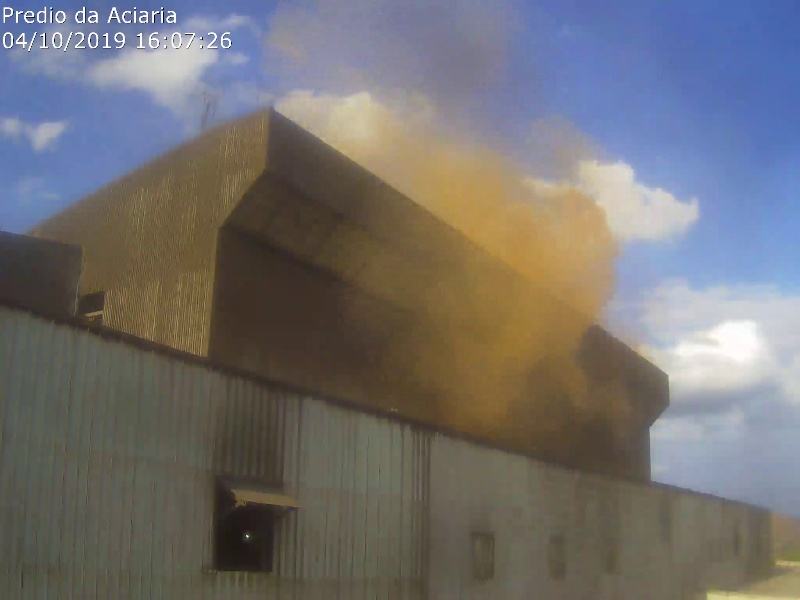bom: (1, 3, 250, 158)
pessimo: (417, 180, 643, 437)
ruim: (281, 4, 491, 183)
